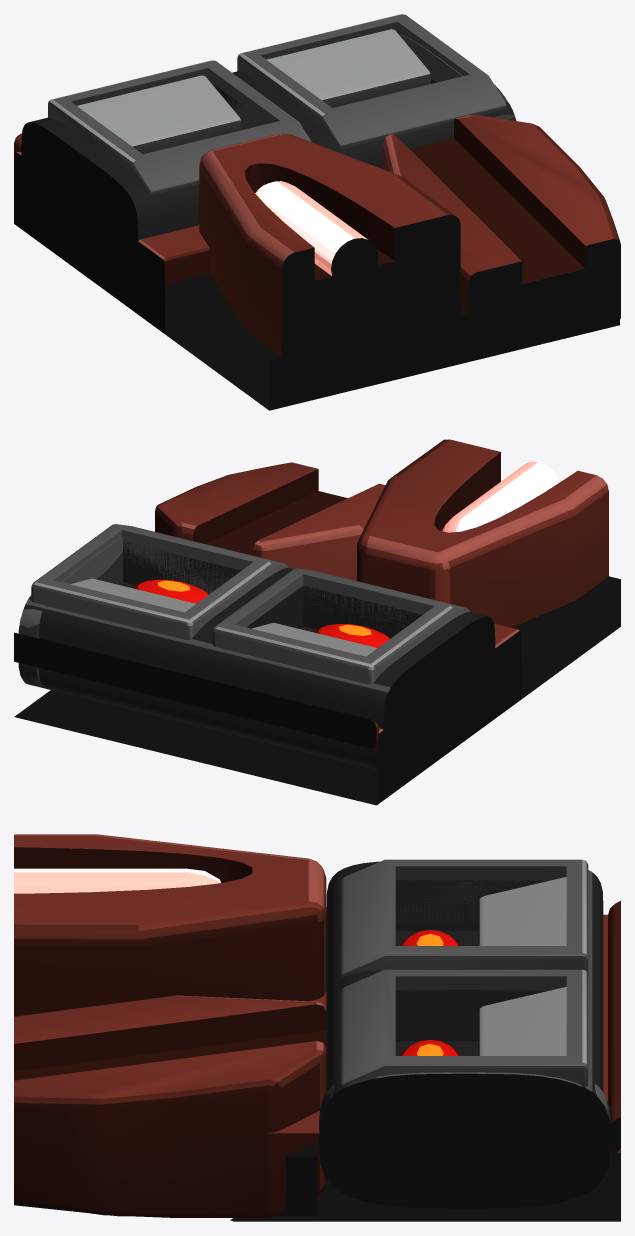
Rendered from savara_boss_243.glb.
3 renders of one model, top to bottom at view 1: azimuth 30°, elevation 25°; view 2: azimuth 150°, elevation 25°; view 3: azimuth 270°, elevation 25°, orthographic. The views are drawn at different scales.
Parts seen in each view (by area): view 1: savara_boss_243; view 2: savara_boss_243; view 3: savara_boss_243.
Part boxes in pixels (<box>): savara_boss_243: <box>14,14,620,410</box>; savara_boss_243: <box>14,439,620,805</box>; savara_boss_243: <box>14,834,620,1221</box>.
Size of the model in its own units: 24 by 9.2 by 28.
